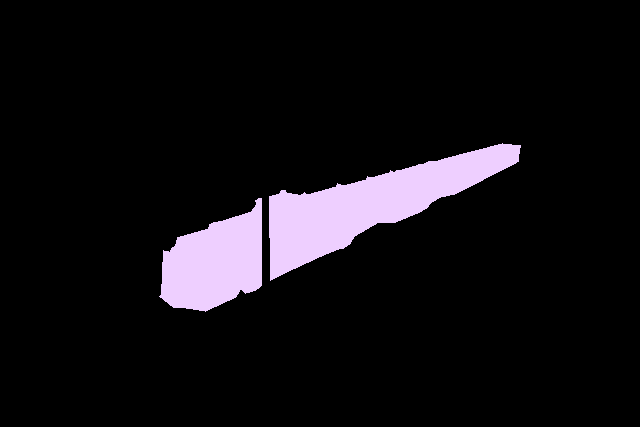Train: (159, 143, 520, 312)
